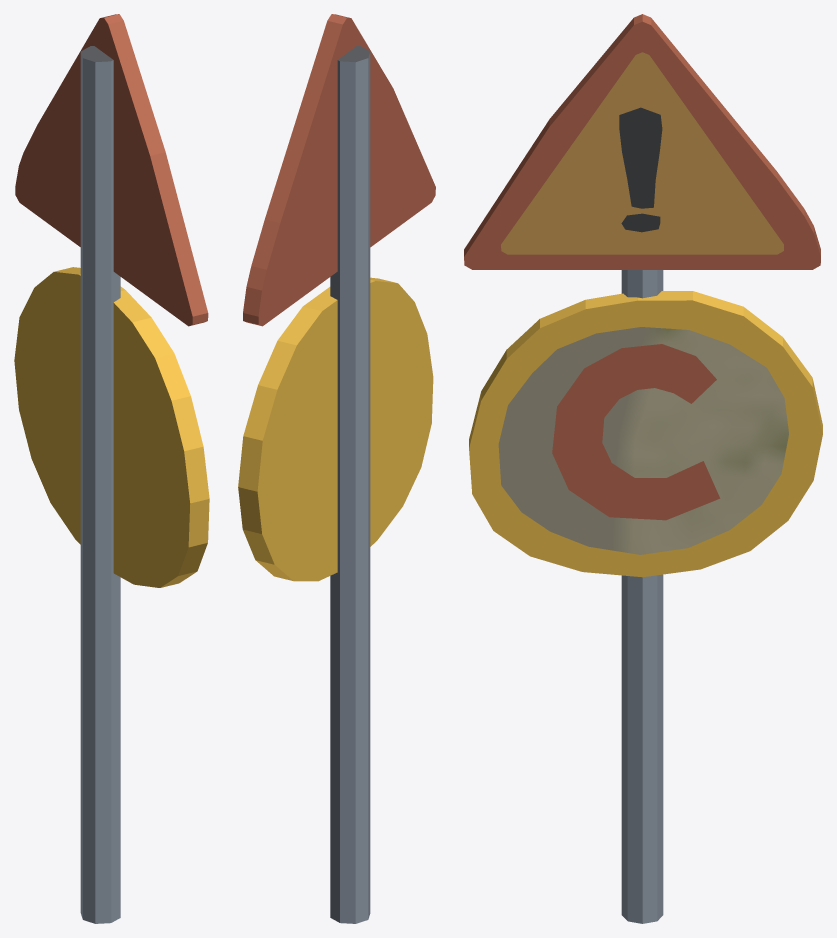
File: BO_Signage_02.fbx
The picture shows the model from 3 angles, left to right: view 1: azimuth 30°, elevation 25°; view 2: azimuth 150°, elevation 25°; view 3: azimuth 270°, elevation 25°; orthographic projection.
Visible parts, largest first — view 1: BR_Signage_02; view 2: BR_Signage_02; view 3: BR_Signage_02.
Part boxes in pixels (<box>): BR_Signage_02: <box>14,14,209,923</box>; BR_Signage_02: <box>238,14,435,923</box>; BR_Signage_02: <box>464,14,822,923</box>.
Size of the model in its own units: 13.86 by 277 by 99.77.
